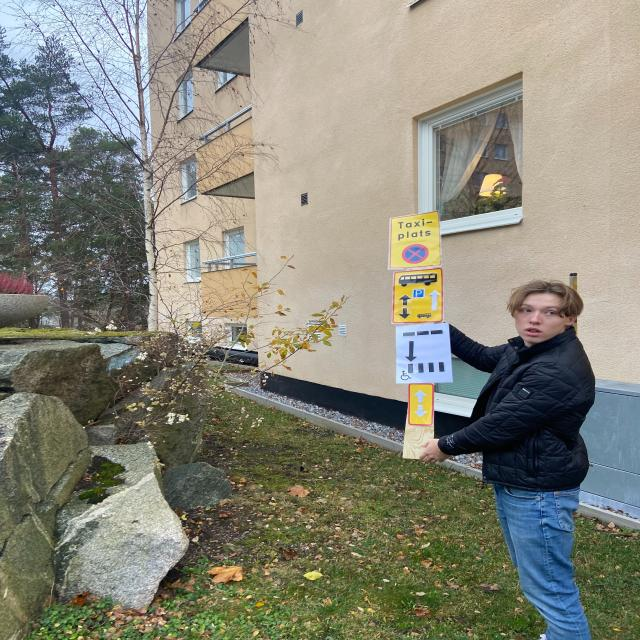lastplats: (385, 216, 441, 271)
